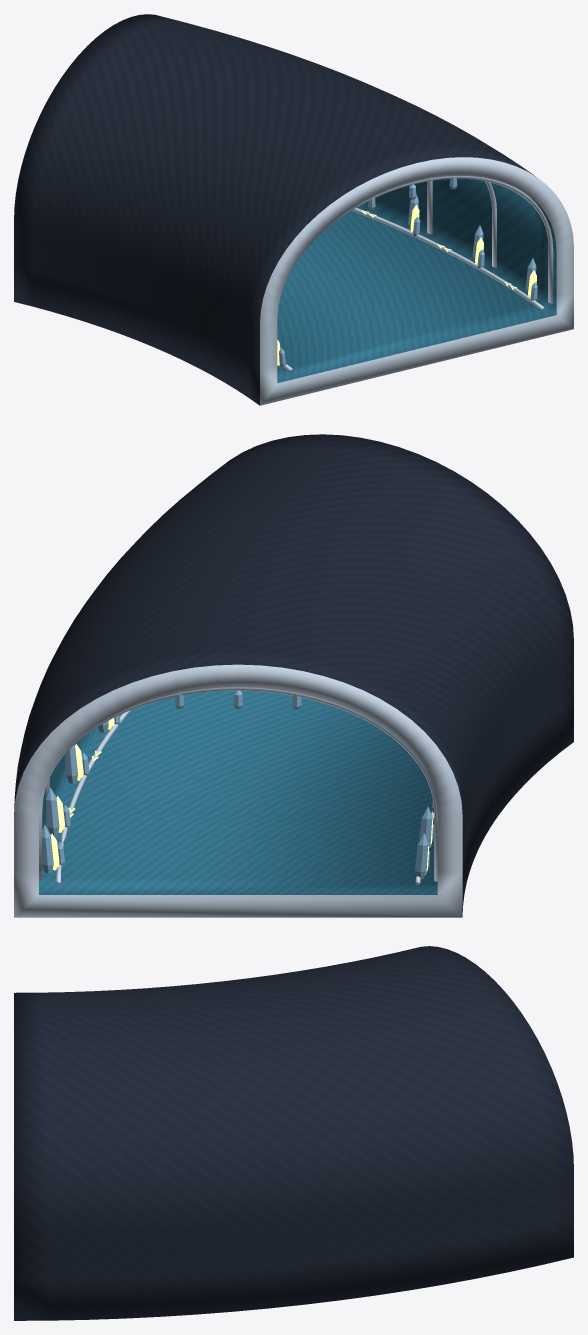
File: curve_left_30.glb
3 renders of one model, top to bottom at view 1: azimuth 30°, elevation 25°; view 2: azimuth 150°, elevation 25°; view 3: azimuth 270°, elevation 25°, orthographic. The views are drawn at different scales.
Parts seen in each view (by area): view 1: TunnelGeometry; view 2: TunnelGeometry; view 3: TunnelGeometry.
Boxes of the visible parts, left/top/right/bottom form: TunnelGeometry: left=14, top=14, right=573, bottom=405; TunnelGeometry: left=14, top=434, right=573, bottom=917; TunnelGeometry: left=14, top=946, right=573, bottom=1320.
Size of the model in its own units: 19.1 by 9.52 by 21.83.
Materials: 5 (2 with a texture image).
